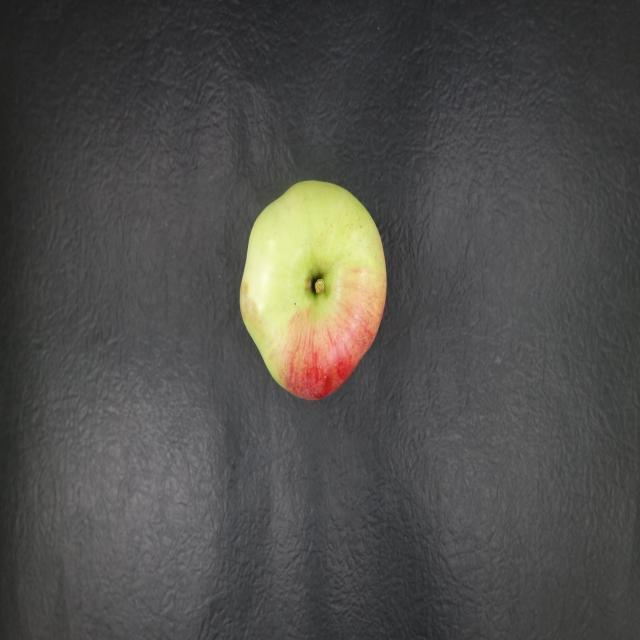apple: (240, 181, 386, 399)
